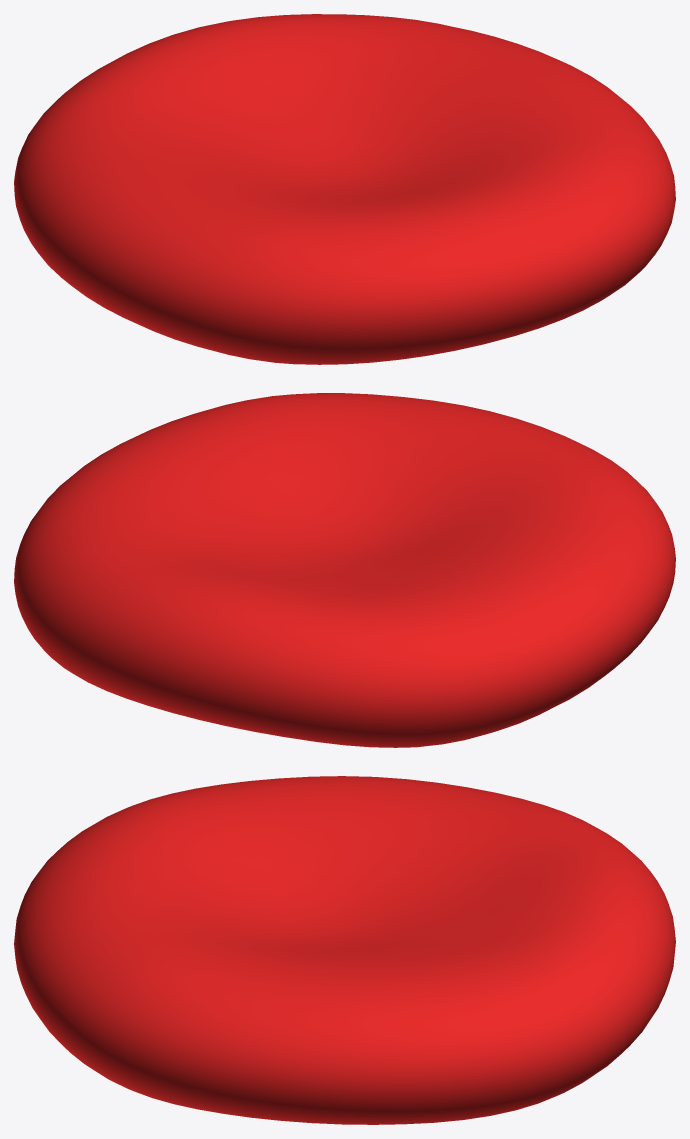
The model's file is Alyuvar02.fbx.
3 views of the same model, one above another, from view 1: azimuth 30°, elevation 25°; view 2: azimuth 150°, elevation 25°; view 3: azimuth 270°, elevation 25° (orthographic).
Visible parts, largest first — view 1: Alyuvar02; view 2: Alyuvar02; view 3: Alyuvar02.
Boxes of the visible parts, x1=… form: Alyuvar02: x1=14, y1=14, x2=675, y2=364; Alyuvar02: x1=14, y1=393, x2=675, y2=747; Alyuvar02: x1=14, y1=776, x2=675, y2=1124.
Bounding box in the file's own units: 165 × 38.46 × 166.
